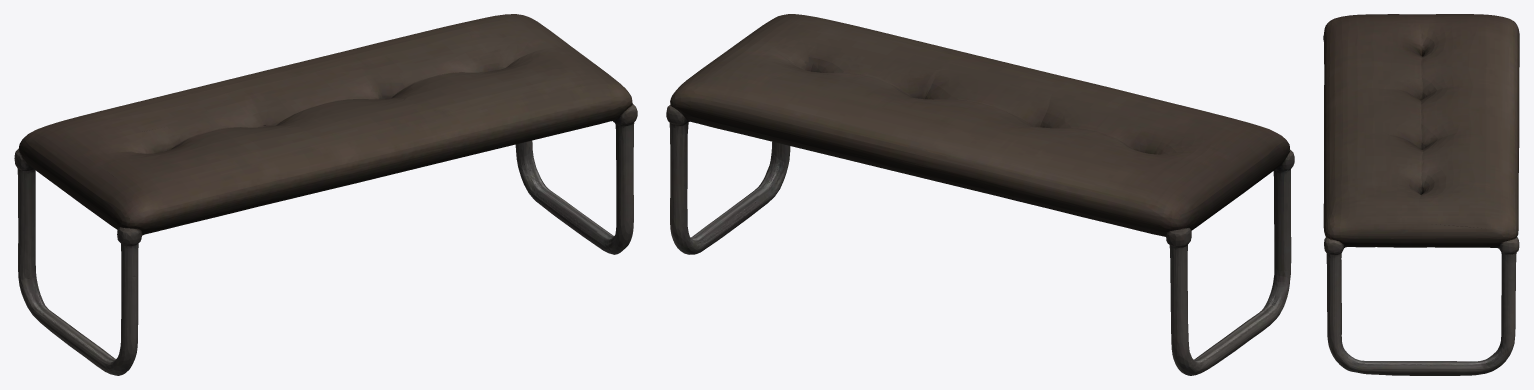
File: mSeat.glb
3 views of the same model, side by side, from view 1: azimuth 30°, elevation 25°; view 2: azimuth 150°, elevation 25°; view 3: azimuth 270°, elevation 25° (orthographic). The views are drawn at different scales.
Parts seen in each view (by area): view 1: geometry_0; view 2: geometry_0; view 3: geometry_0.
Boxes of the visible parts, left/top/right/bottom form: geometry_0: left=14, top=14, right=637, bottom=375; geometry_0: left=666, top=14, right=1294, bottom=375; geometry_0: left=1323, top=14, right=1519, bottom=375.
Bounding box in the file's own units: 0.9995 × 0.355 × 0.3856.
1 material, 1 textured.
